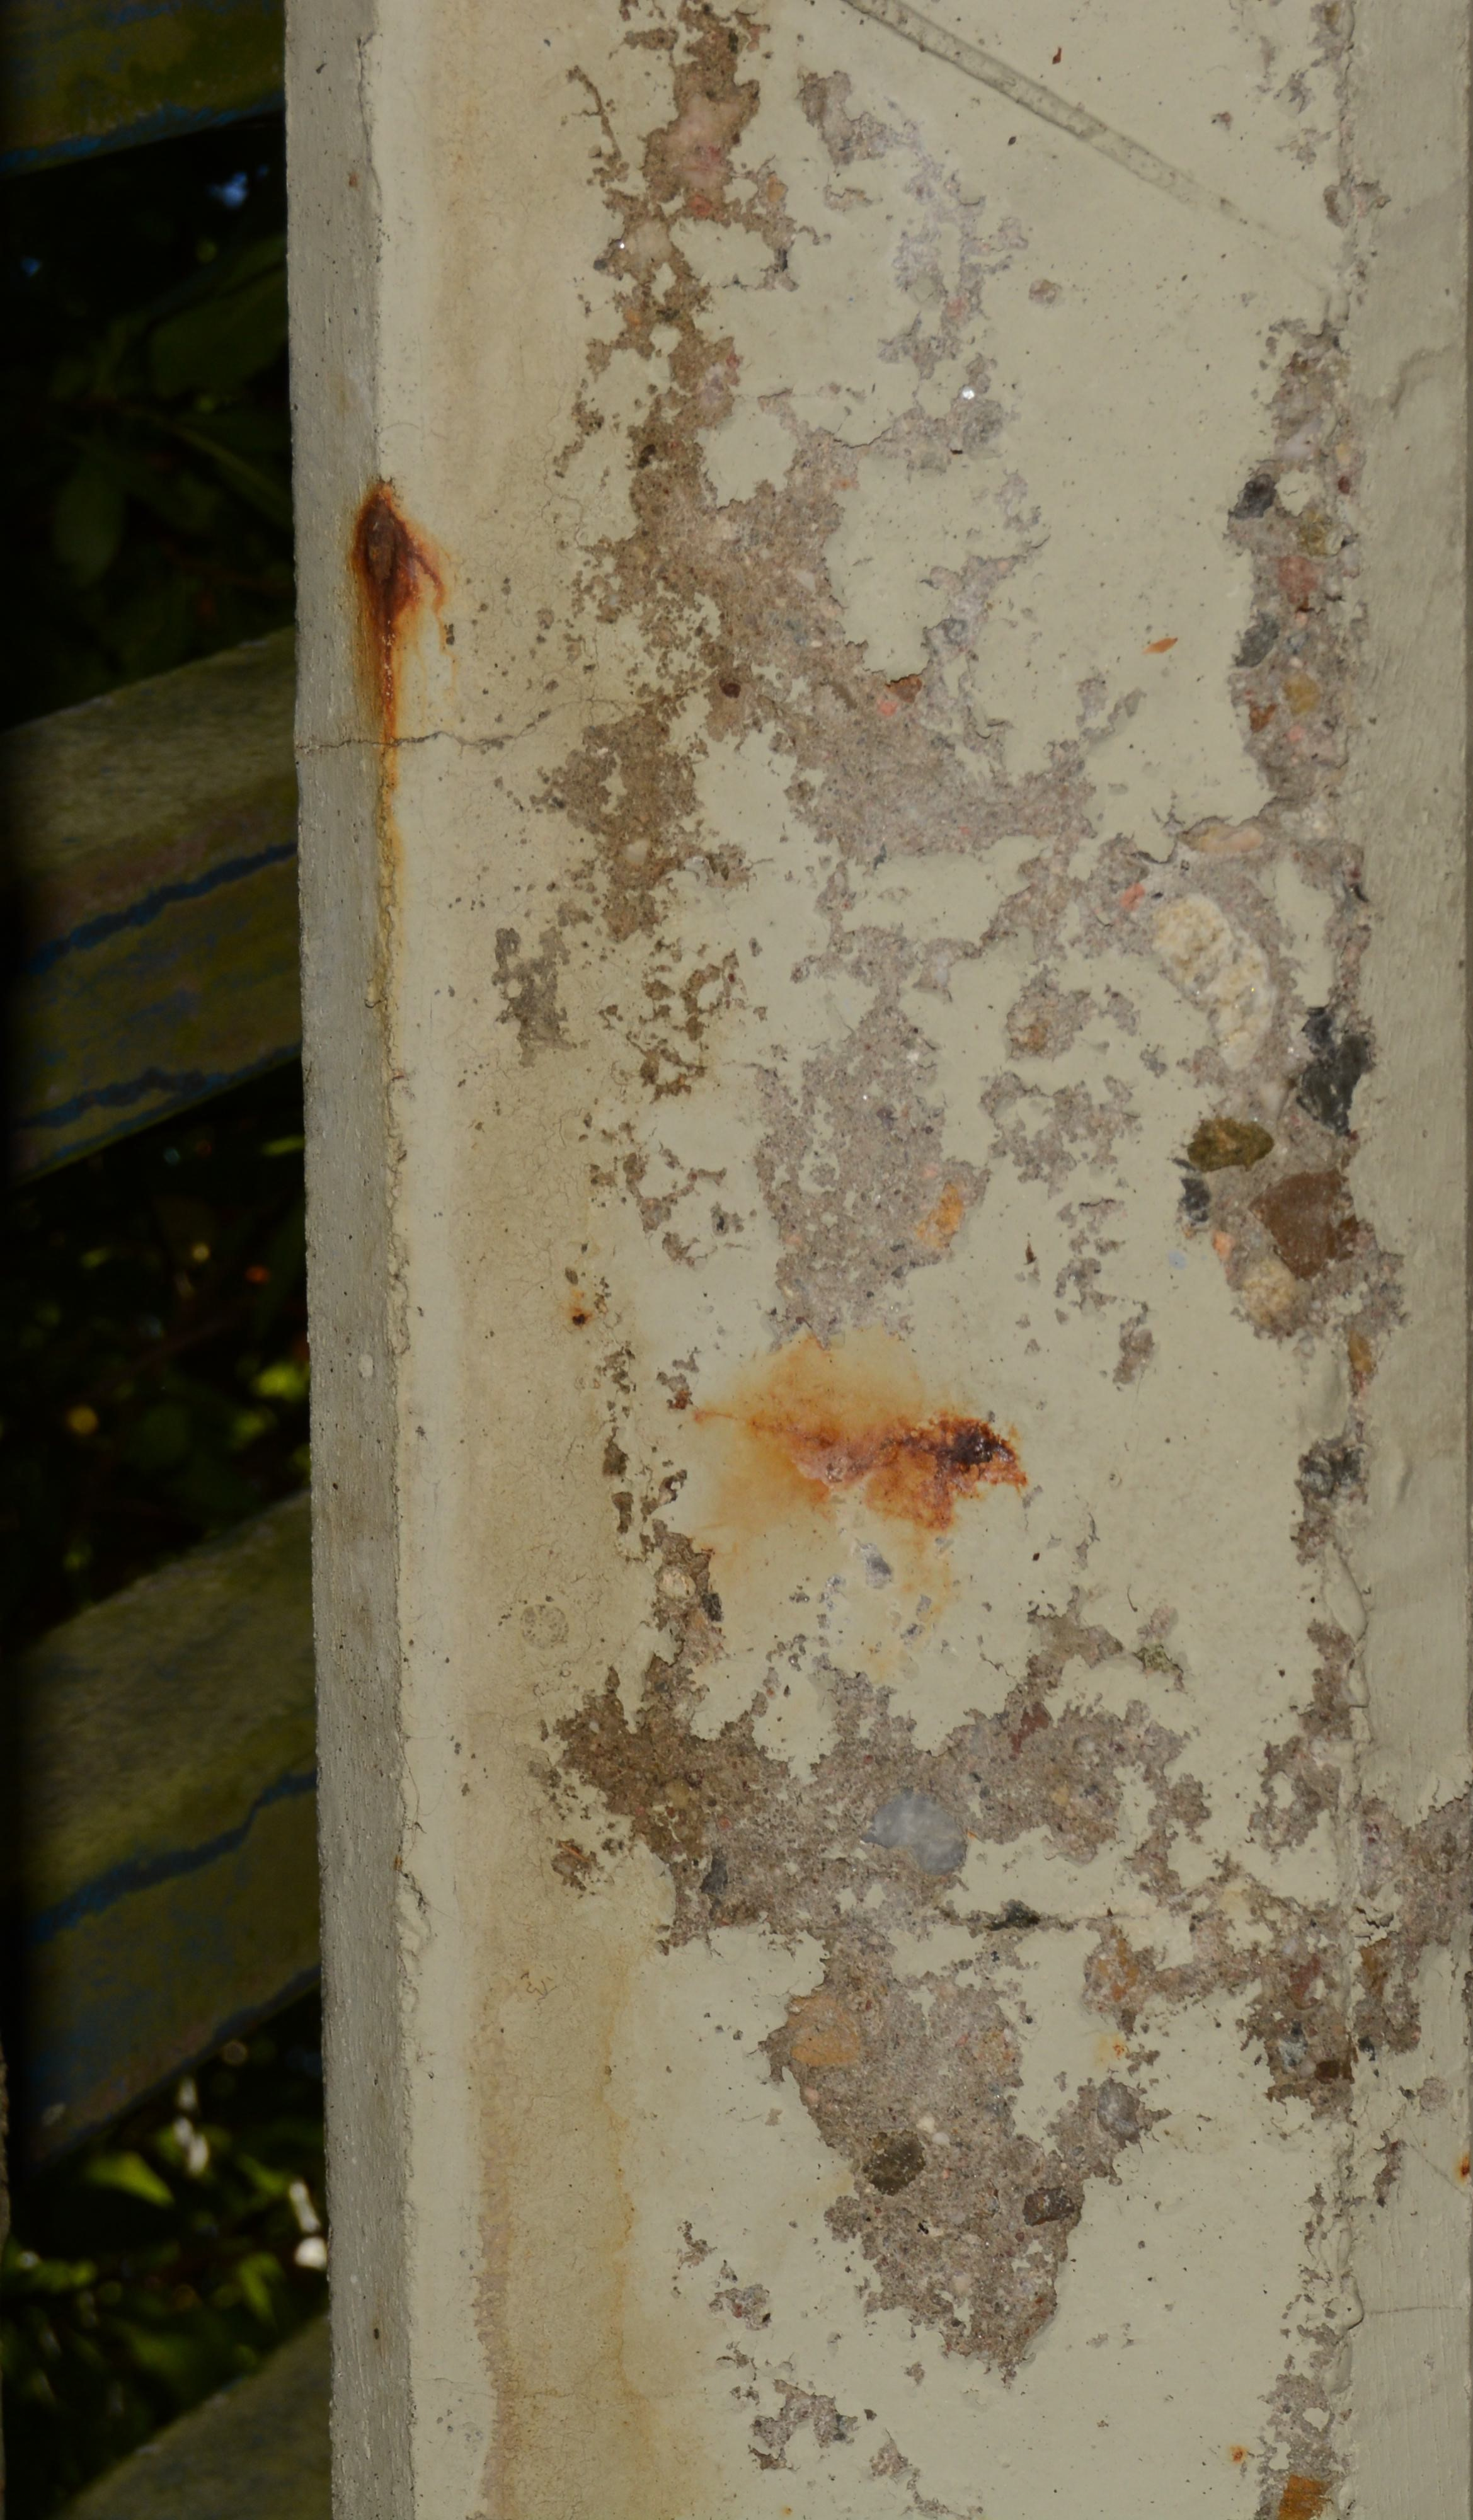Corrosion: (689, 1329, 1028, 1534), (345, 479, 444, 1071)
Crack: (296, 698, 616, 754)
Spalling: (486, 0, 1473, 2520)
